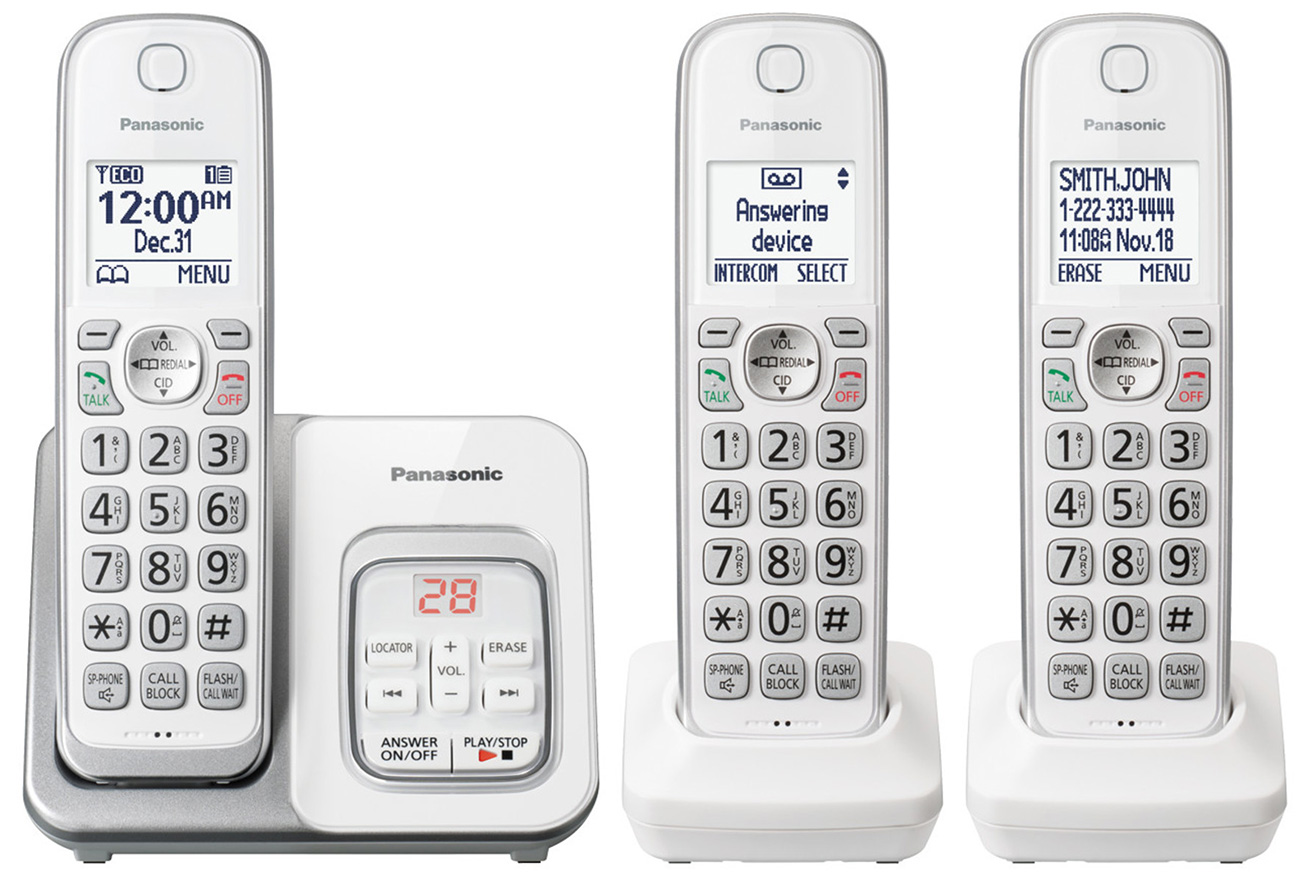telephone: (42, 9, 284, 803), (667, 5, 901, 750), (1013, 8, 1247, 748)
